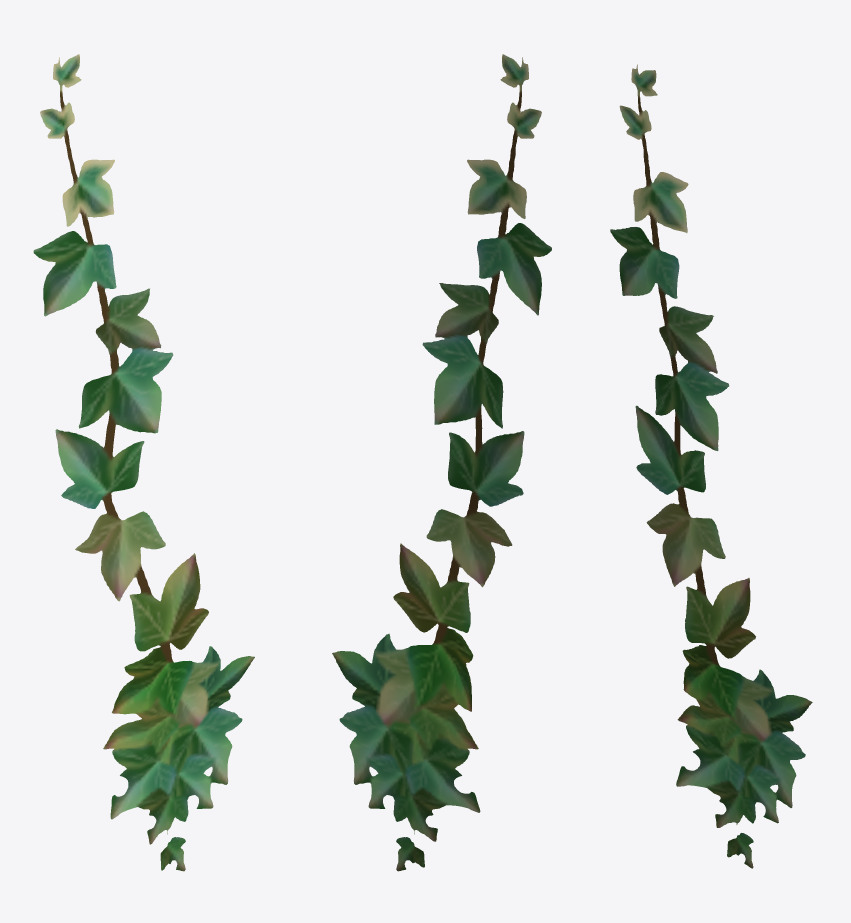
Rendered from lierres_gr_5.fbx.
3 views of the same model, side by side, from view 1: azimuth 30°, elevation 25°; view 2: azimuth 150°, elevation 25°; view 3: azimuth 330°, elevation 25° (orthographic). The views are drawn at different scales.
Parts seen in each view (by area): view 1: Lierres; view 2: Lierres; view 3: Lierres.
Boxes of the visible parts, x1=… form: Lierres: x1=33, y1=54, x2=254, y2=871; Lierres: x1=332, y1=54, x2=551, y2=871; Lierres: x1=610, y1=64, x2=812, y2=868.
Bounding box in the file's own units: 35.62 × 121 × 3.88.
